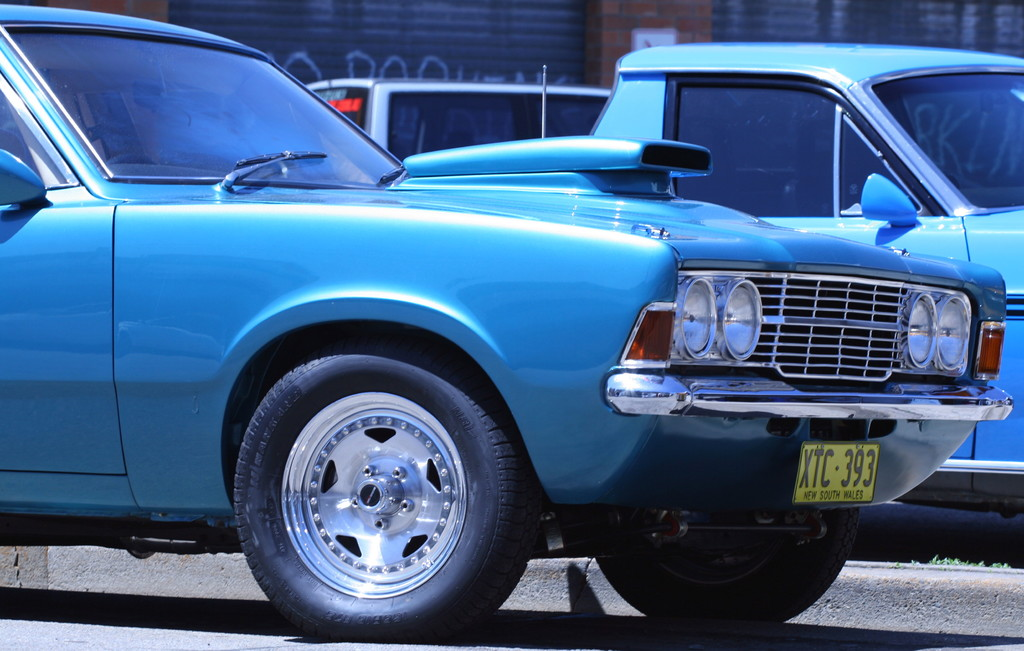Car: (0, 3, 1018, 650)
